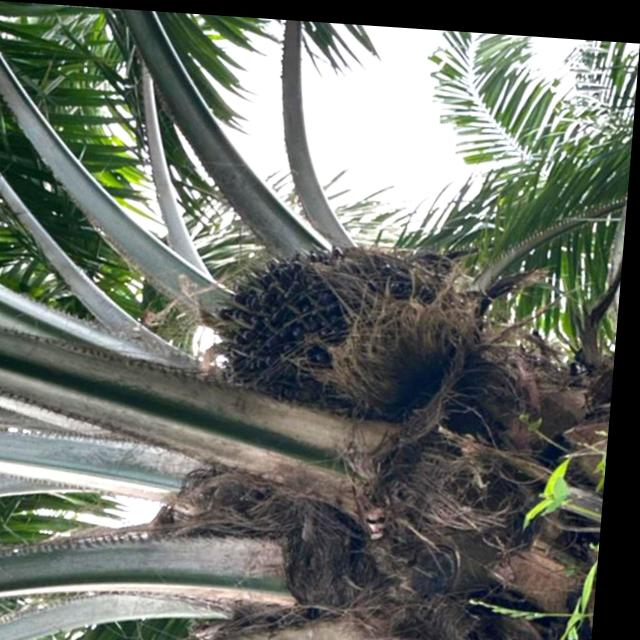almost: (205, 224, 460, 421)
